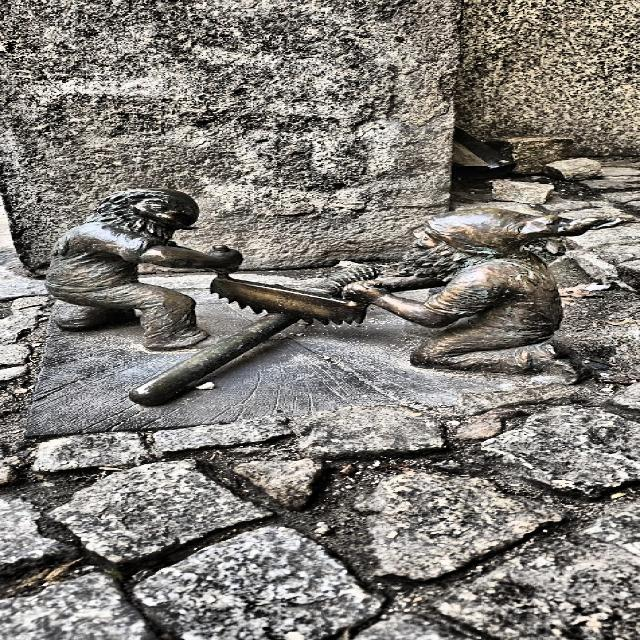Wyrostek i Zadymek: (46, 190, 621, 405)
